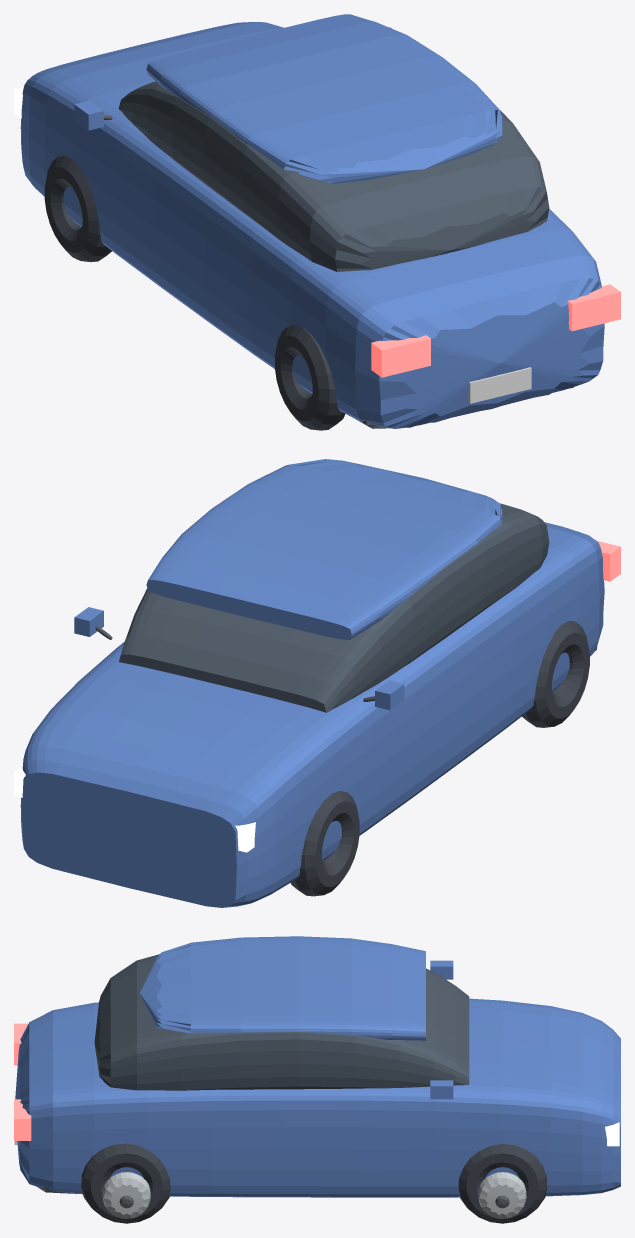
The model's file is car_azul.glb.
3 renders of one model, top to bottom at view 1: azimuth 30°, elevation 25°; view 2: azimuth 150°, elevation 25°; view 3: azimuth 270°, elevation 25°, orthographic. The views are drawn at different scales.
Visible parts, largest first — view 1: HatchAzul, WheelRL, WheelFL; view 2: HatchAzul, WheelFL, WheelRL; view 3: HatchAzul, WheelRR, WheelFR.
Part boxes in pixels (x1,y1,x2,y2): HatchAzul: (14, 14, 620, 428); WheelRL: (275, 325, 345, 430); WheelFL: (44, 155, 111, 262); HatchAzul: (14, 459, 620, 907); WheelFL: (291, 791, 359, 896); WheelRL: (522, 621, 589, 727); HatchAzul: (14, 936, 620, 1197); WheelRR: (81, 1143, 170, 1223); WheelFR: (458, 1144, 547, 1223).
Size of the model in its own units: 2.06 by 1.49 by 4.2.
Materials: 8 (1 with a texture image).
